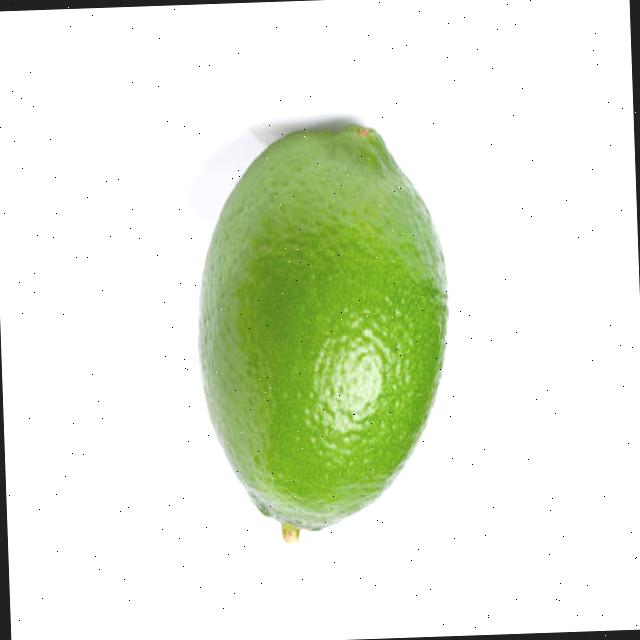Unripe: (188, 119, 457, 550)
